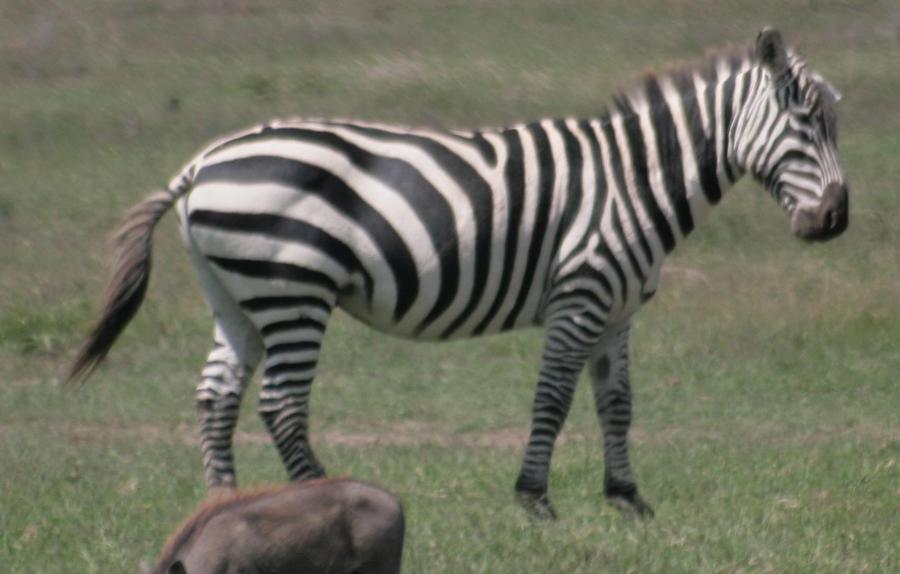zebra_plains: (191, 76, 653, 370)
